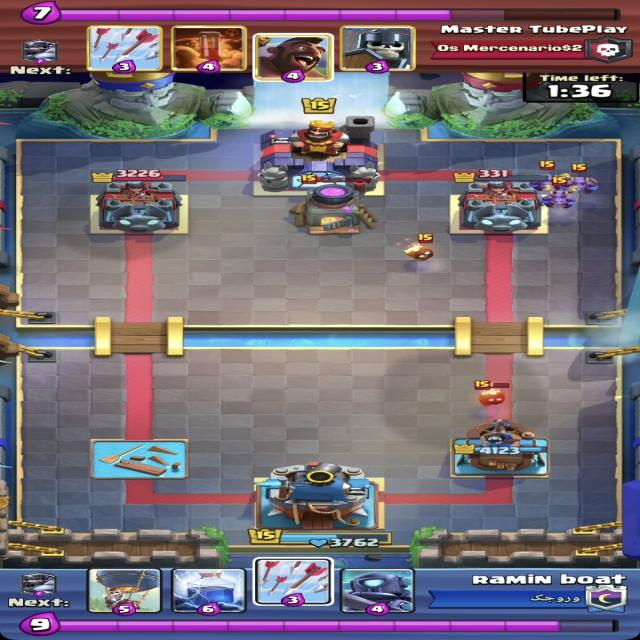Enemy-FireSpirit: (473, 380, 512, 408), (402, 233, 437, 262)
Enemy-Furnace: (289, 174, 379, 235)
Enemy-Minion: (529, 161, 571, 191), (540, 176, 578, 209), (564, 163, 600, 194)
